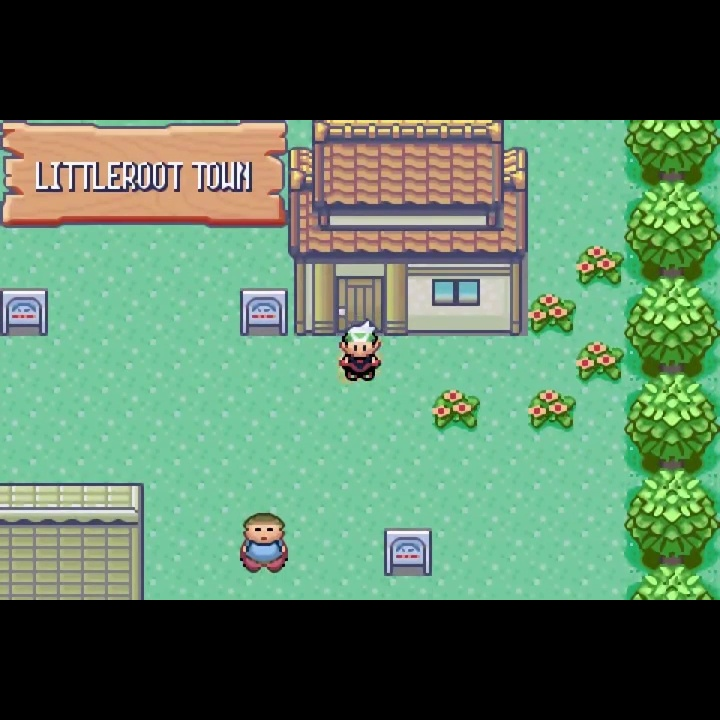house: (287, 121, 531, 339), (1, 482, 147, 601)
npc: (236, 511, 290, 577), (338, 317, 384, 385)
wall: (626, 369, 720, 470), (623, 468, 720, 565), (623, 276, 720, 371), (626, 179, 720, 277), (625, 119, 720, 185), (626, 563, 720, 601)
